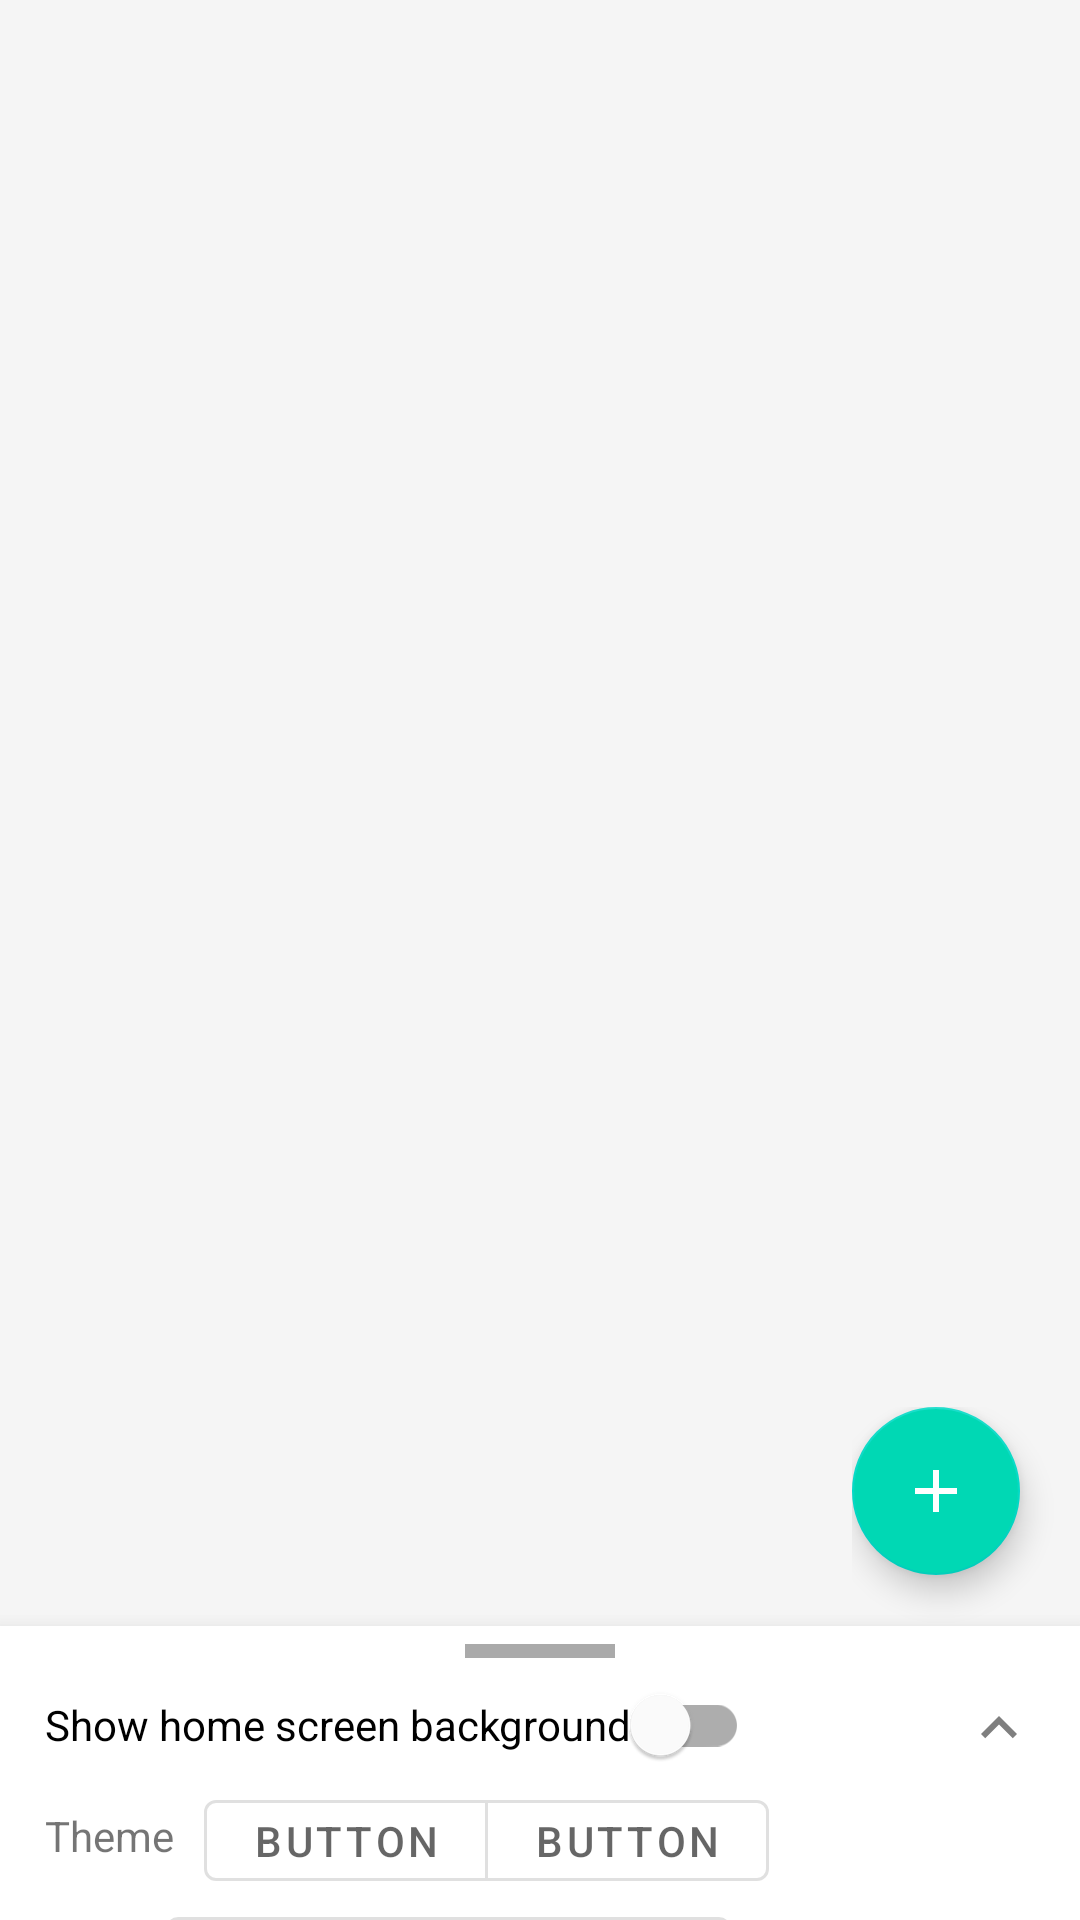

Icons on this 1080×1920 Android screen, each with the point to tap as (x,y):
add: (936,1491)
keyboard arrow up: (999,1727)
